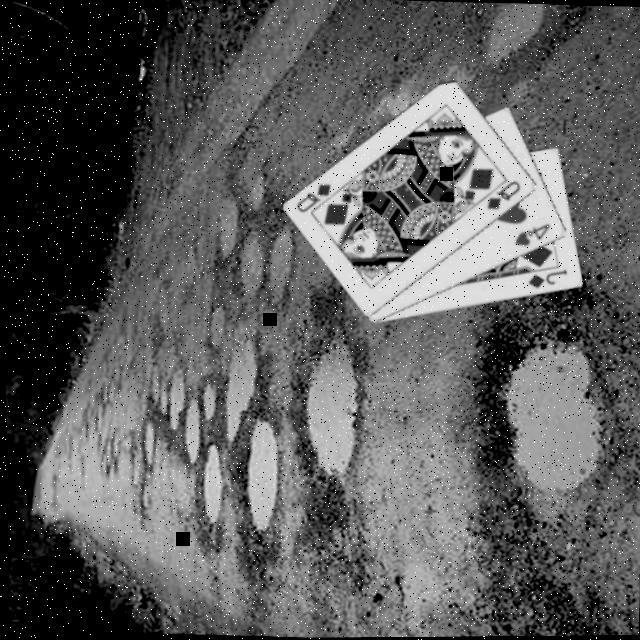4H: (508, 218, 551, 249)
JD: (521, 264, 567, 292)
QD: (290, 178, 332, 215), (482, 175, 522, 212)
